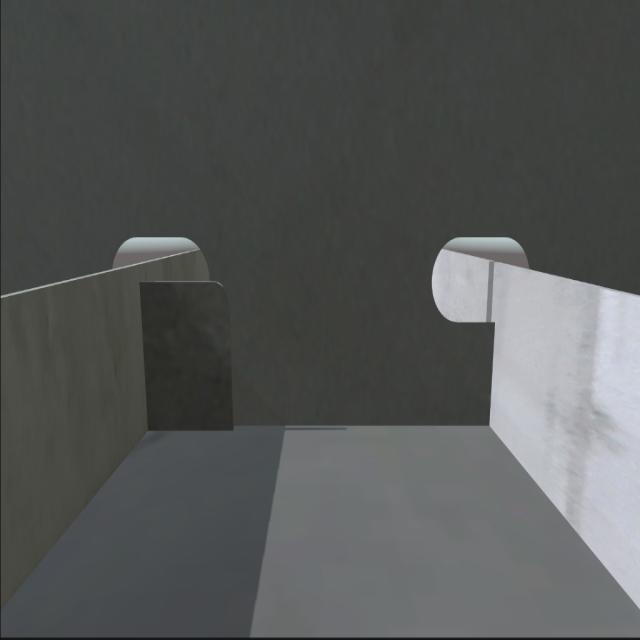fillet_yong_jeop_jang: (147, 418, 496, 434)
longi_yong_jeop_jang: (135, 280, 156, 438), (487, 320, 502, 430)
plate_CP05: (141, 282, 235, 433)
